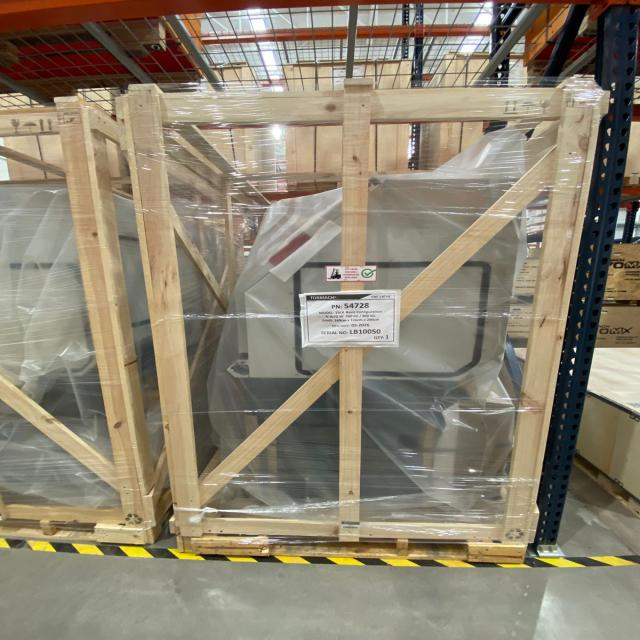15lx: (118, 78, 608, 562)
